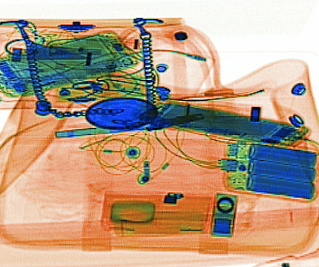powerbank: (219, 133, 318, 202)
